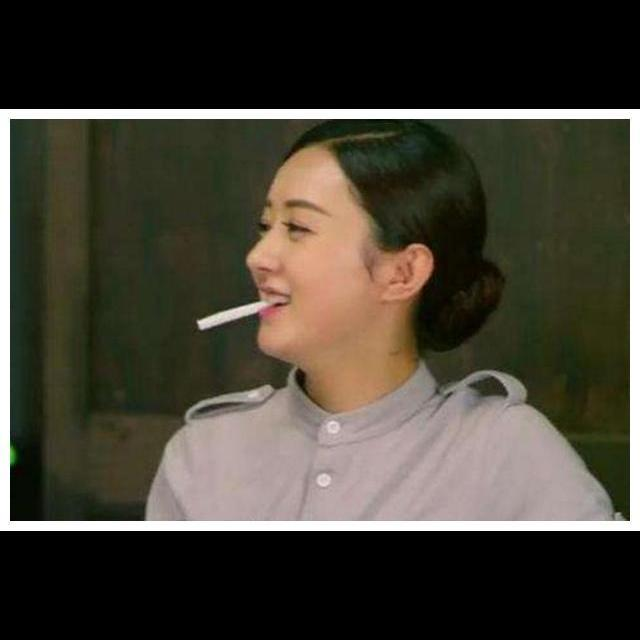rokok: (194, 294, 276, 336)
